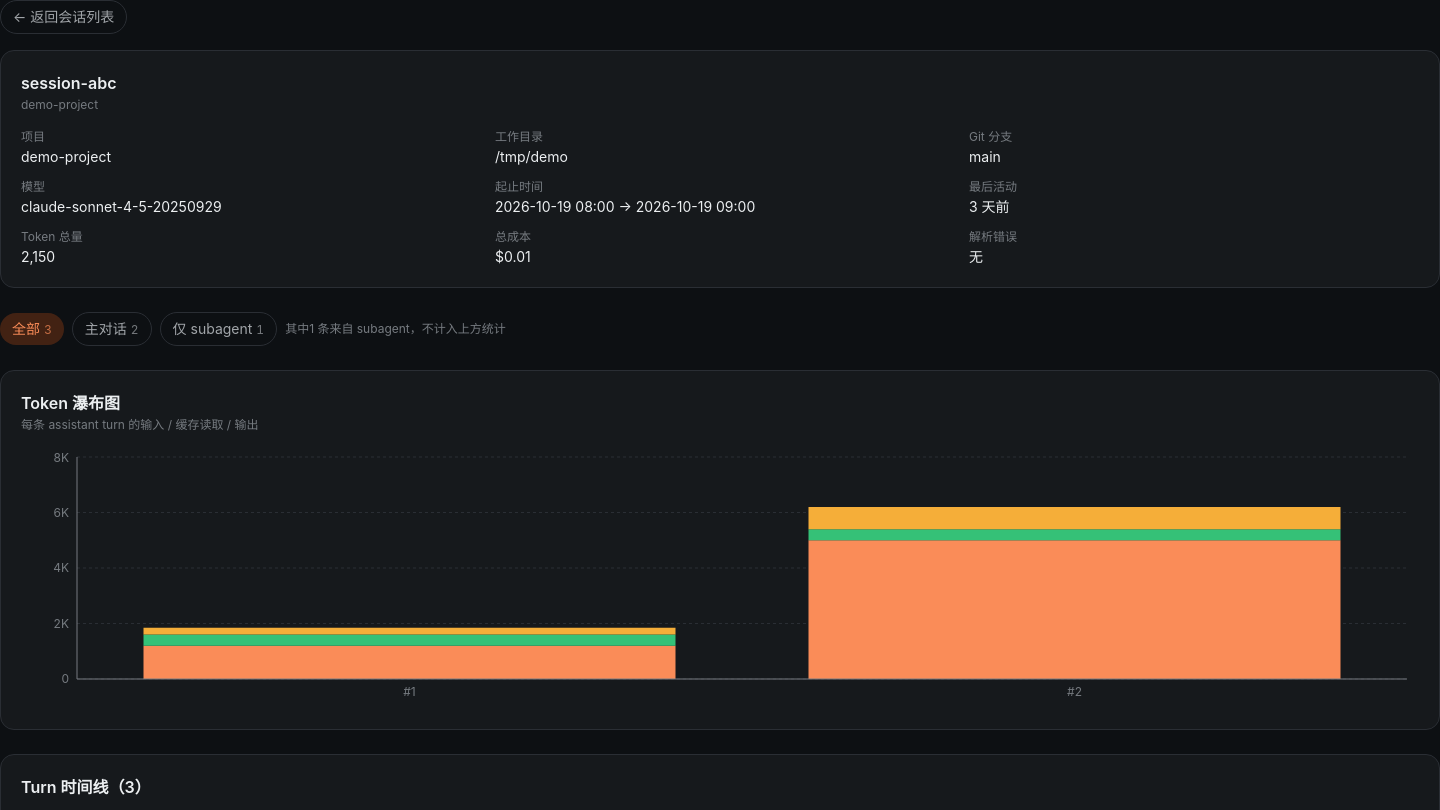
it: SessionDetailPage 的链条筛选 › 点「仅 subagent」后时间线与瀑布图都只剩侧链
The width and height of the screenshot is (1440, 810).
Click the button with test id "chain-filter-side": x=218, y=329 [160,312,277,346]
(page scrolled)
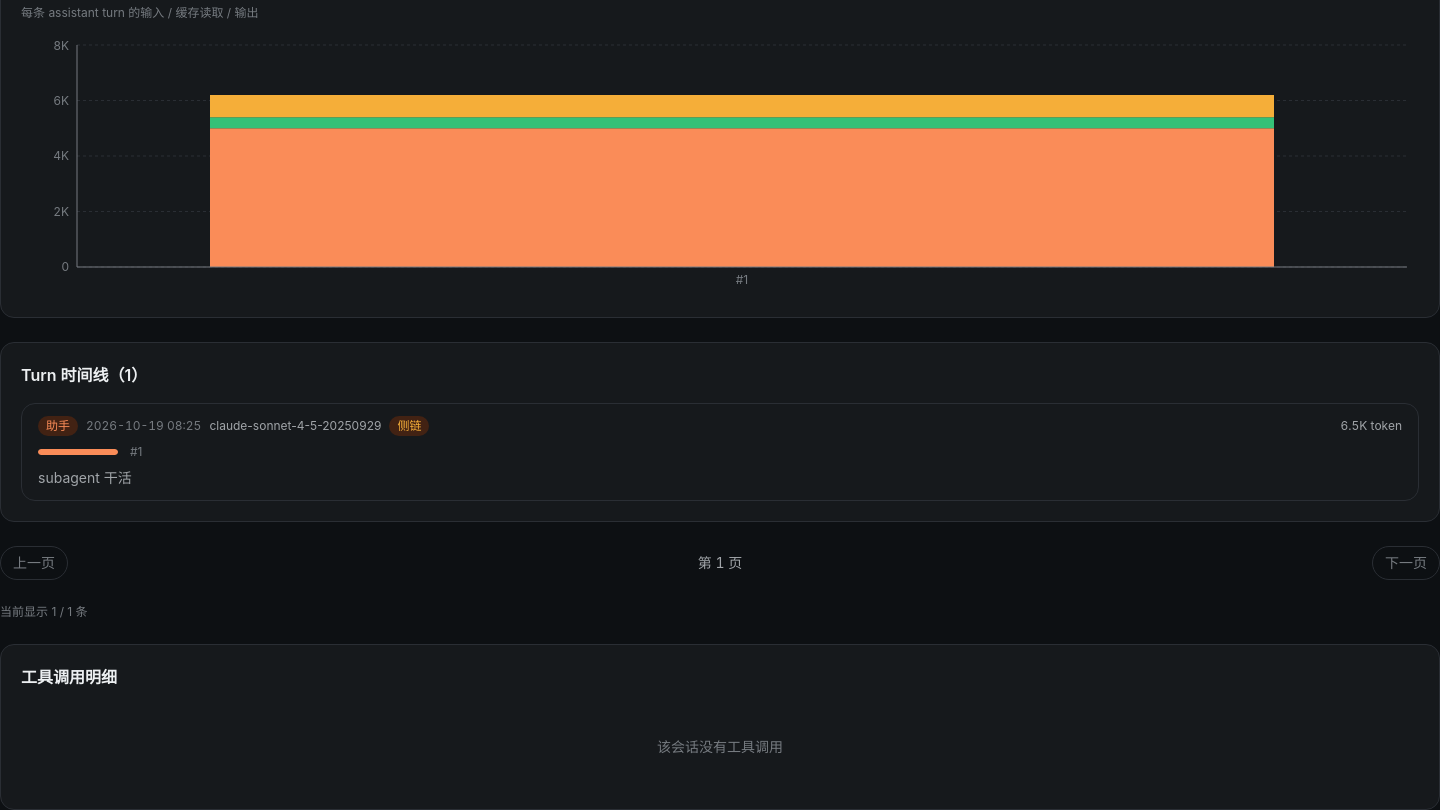
expect the text "subagent 干活" is shown: met, box [38,469,132,486]
expect the heading "Turn 时间线（1）" is shown: met, box [21,363,147,387]
